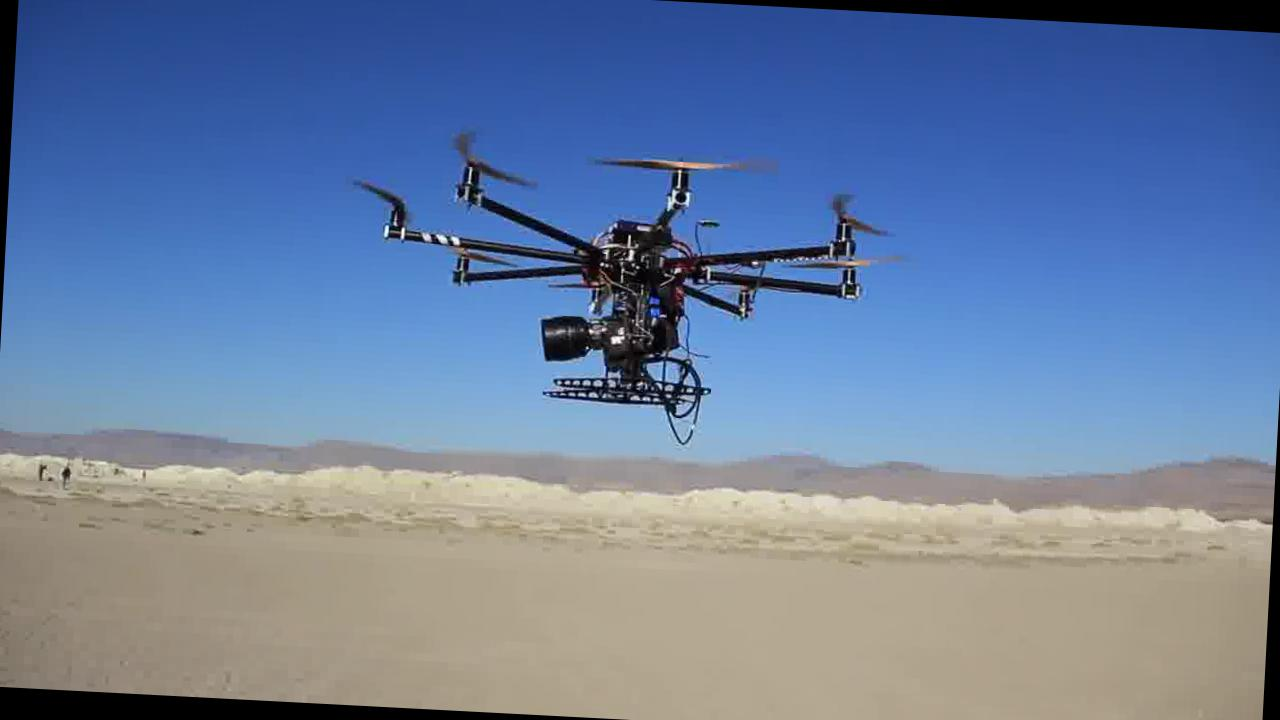drone: (351, 128, 888, 428)
